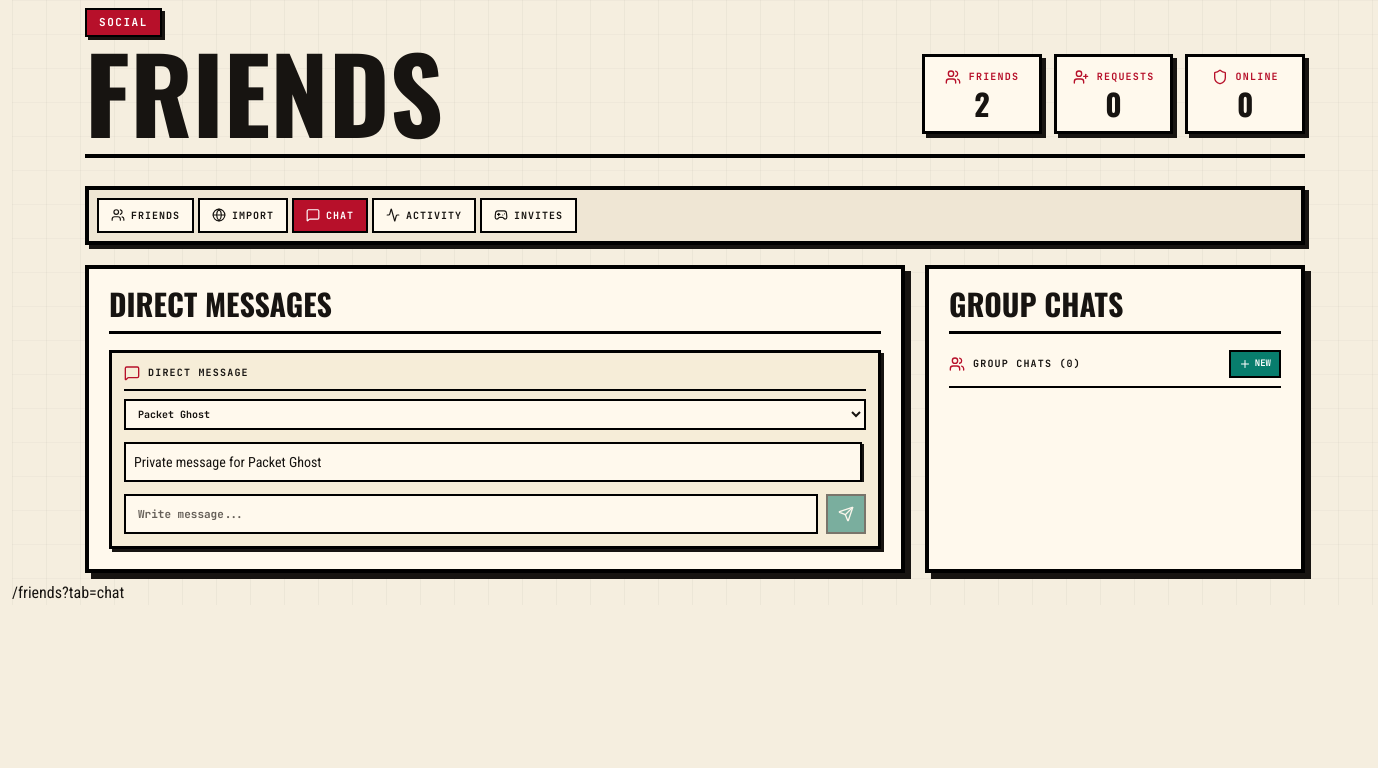
Test case: FriendsPage › clears the old direct-message thread immediately when the next thread fails
The width and height of the screenshot is (1378, 768).
Check: the text "Private message for Packet Ghost" is shown, box [124, 442, 862, 482]
Select "Silent Node" in the dropdown at (495, 414), box [124, 399, 866, 430]
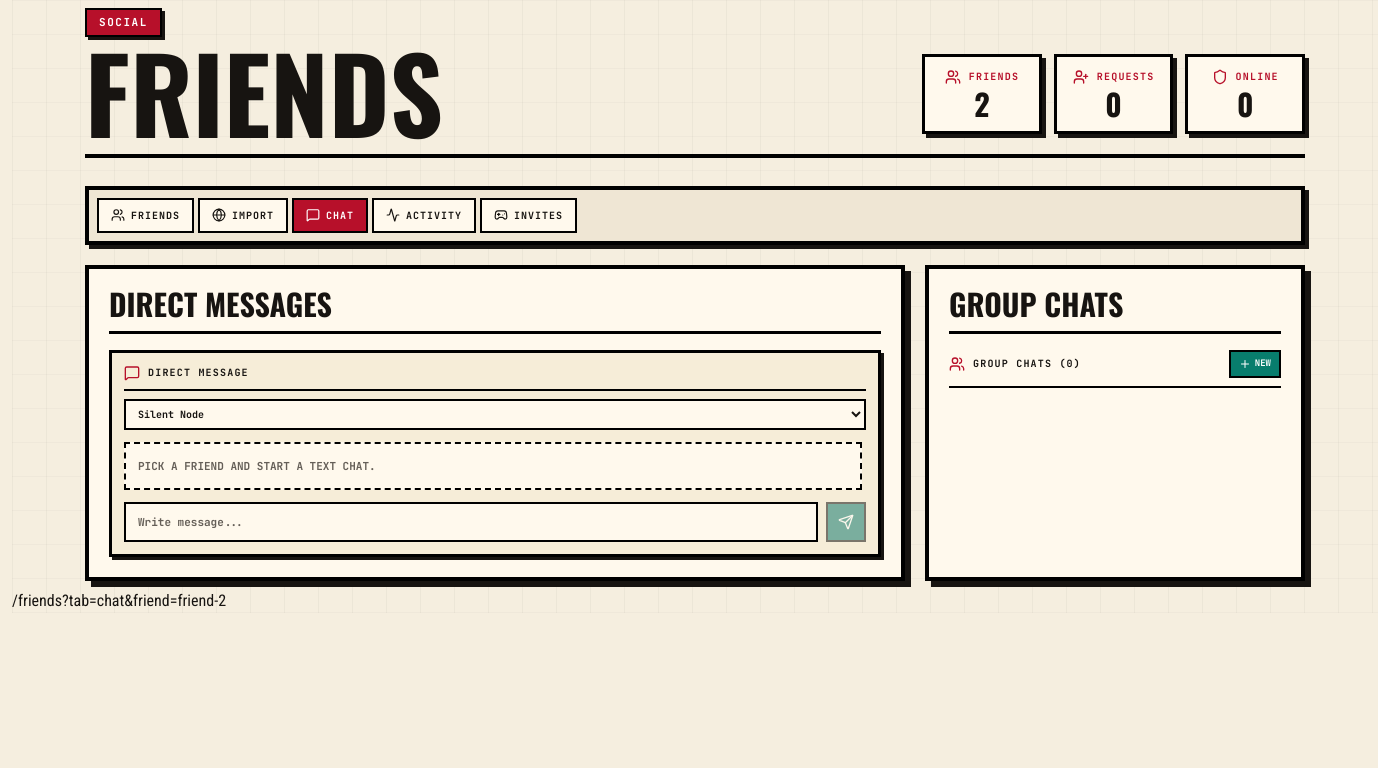
Check: the text "Private message for Packet Ghost" is gone
